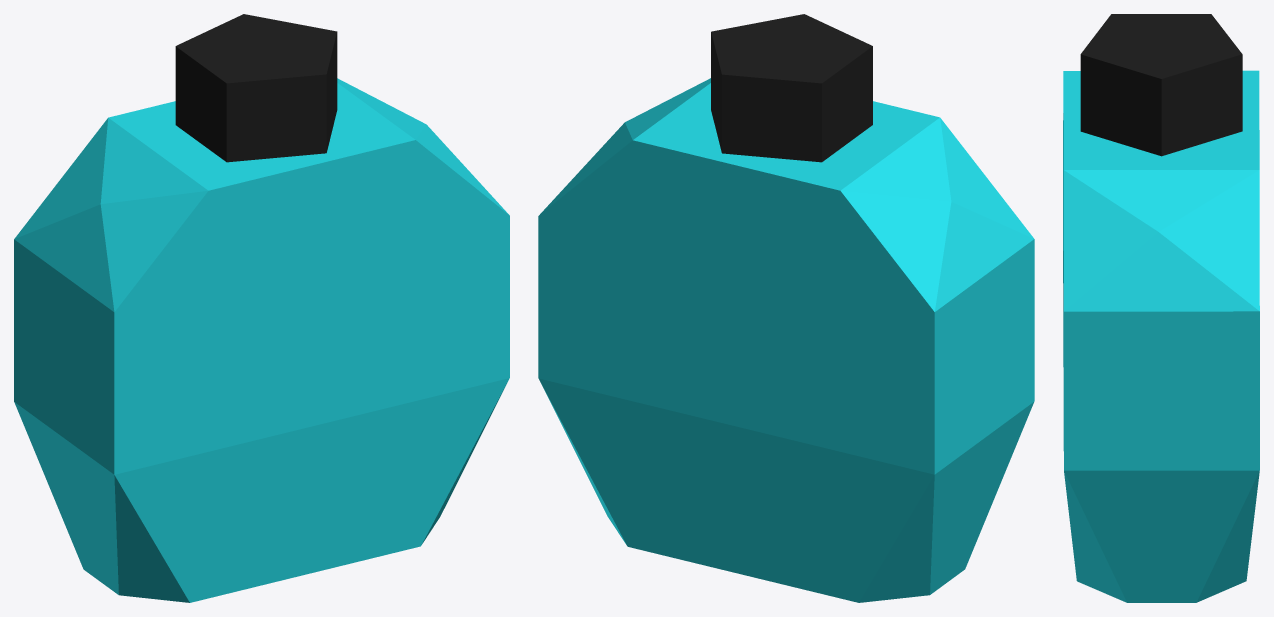
File: prop_067.glb
3 views of the same model, side by side, from view 1: azimuth 30°, elevation 25°; view 2: azimuth 150°, elevation 25°; view 3: azimuth 270°, elevation 25° (orthographic). The views are drawn at different scales.
Visible parts, largest first — view 1: prop_067; view 2: prop_067; view 3: prop_067.
Part boxes in pixels (x1,y1,x2,y2): prop_067: (14,14,509,602); prop_067: (538,14,1034,602); prop_067: (1063,14,1259,602).
Size of the model in its own units: 0.1593 by 0.1895 by 0.0699.
1 material, 1 textured.
